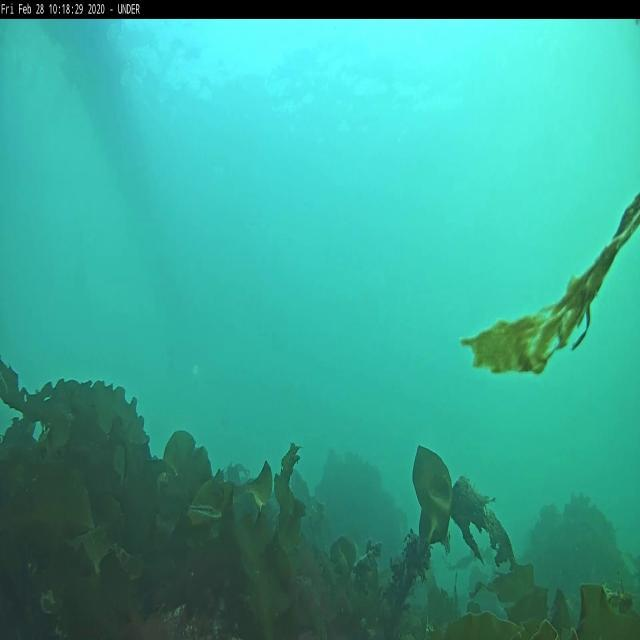fish: (190, 502, 223, 518)
